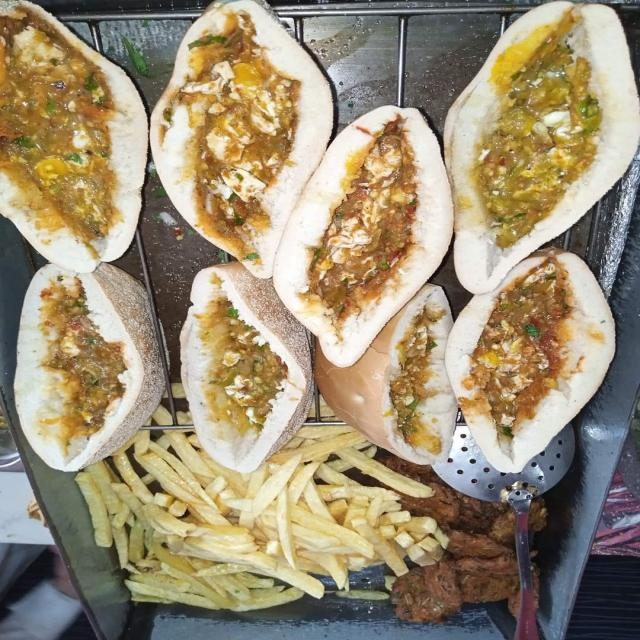Sandwitch tounsi: (453, 5, 640, 264), (0, 3, 178, 260), (144, 0, 312, 240), (0, 274, 184, 451), (168, 278, 324, 475), (474, 278, 600, 484), (344, 311, 460, 464)
